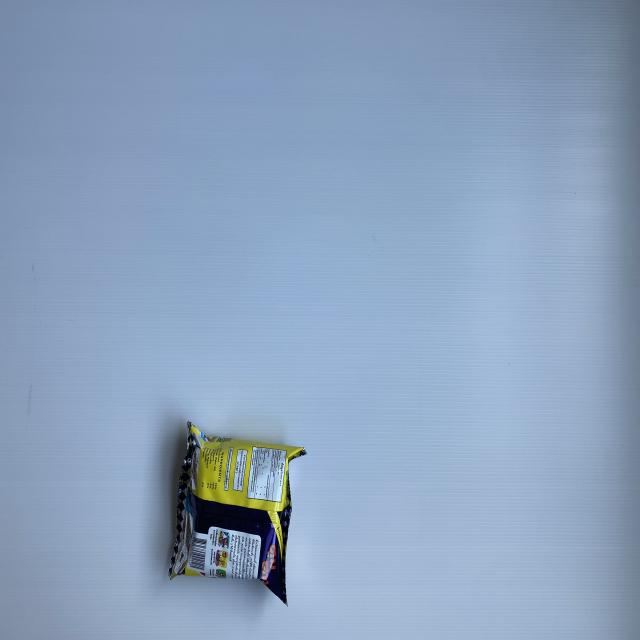snack: (168, 420, 307, 608)
